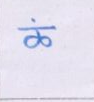anusvara: (32, 19, 35, 22)
